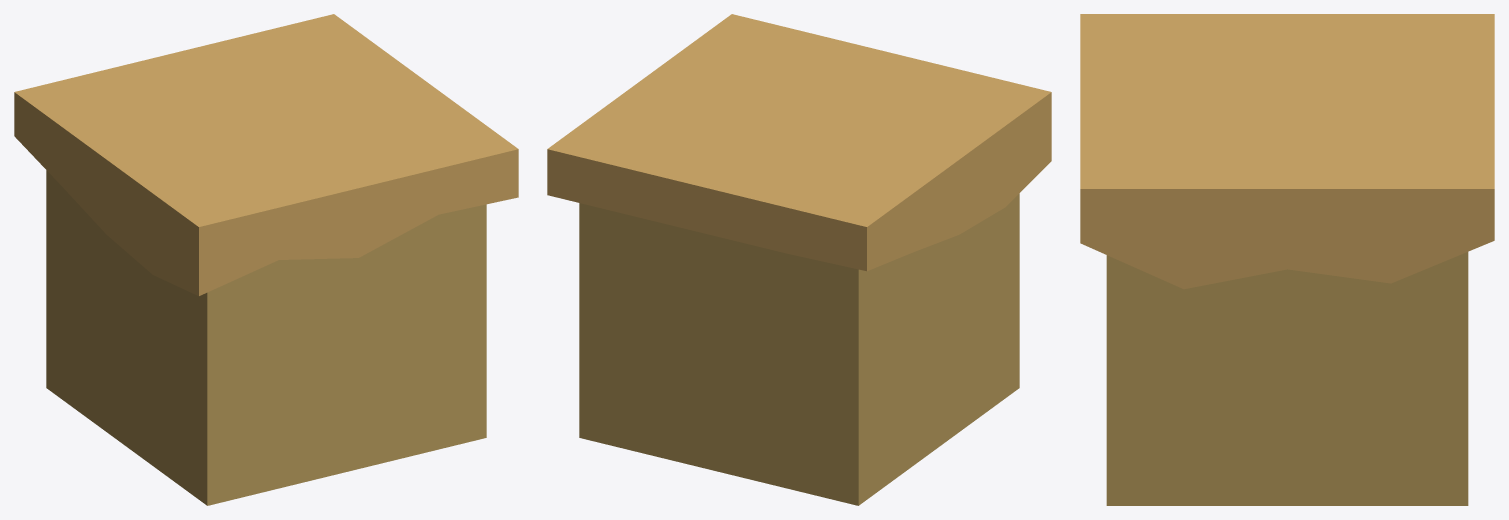
The model's file is Grid_Desert_3.fbx.
3 renders of one model, left to right at view 1: azimuth 30°, elevation 25°; view 2: azimuth 150°, elevation 25°; view 3: azimuth 270°, elevation 25°, orthographic. The views are drawn at different scales.
Visible parts, largest first — view 1: Cube; view 2: Cube; view 3: Cube.
Part boxes in pixels (x1,y1,x2,y2): Cube: (14,14,518,505); Cube: (547,14,1051,505); Cube: (1080,14,1494,505).
Size of the model in its own units: 114 by 100 by 114.
